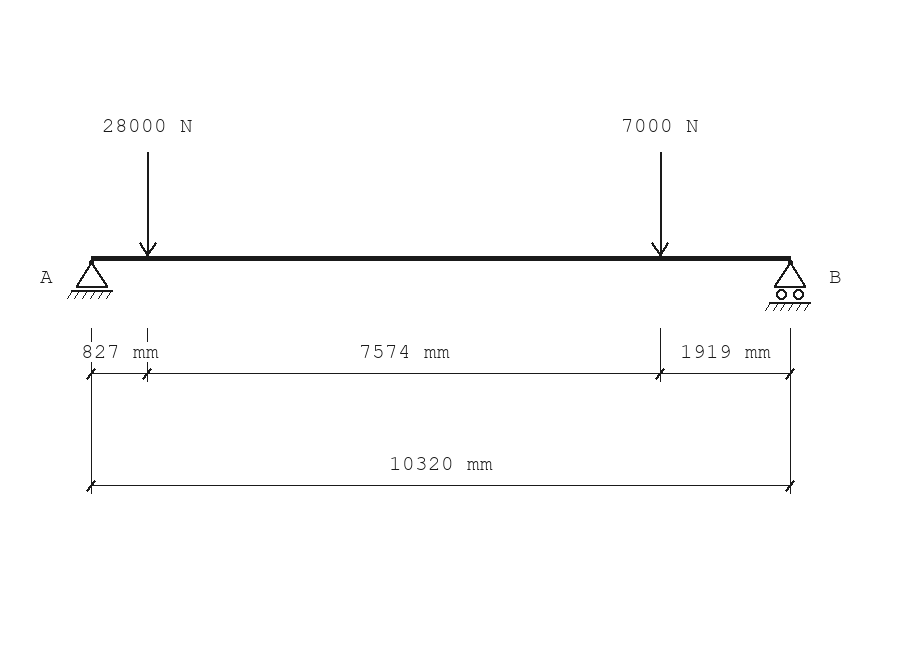pin_support: (67, 260, 113, 299)
point_load: (139, 152, 157, 257), (651, 152, 669, 257)
roller_support: (765, 260, 811, 311)
